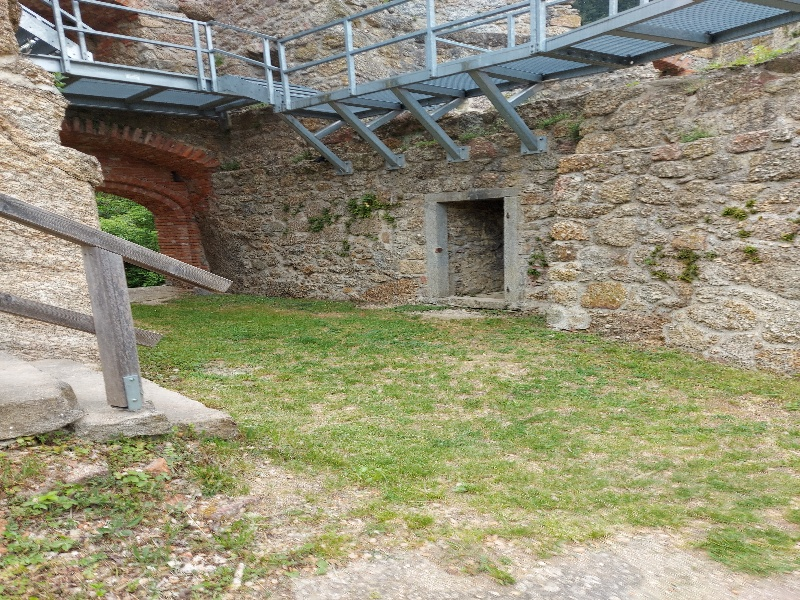door1: (418, 185, 534, 311)
